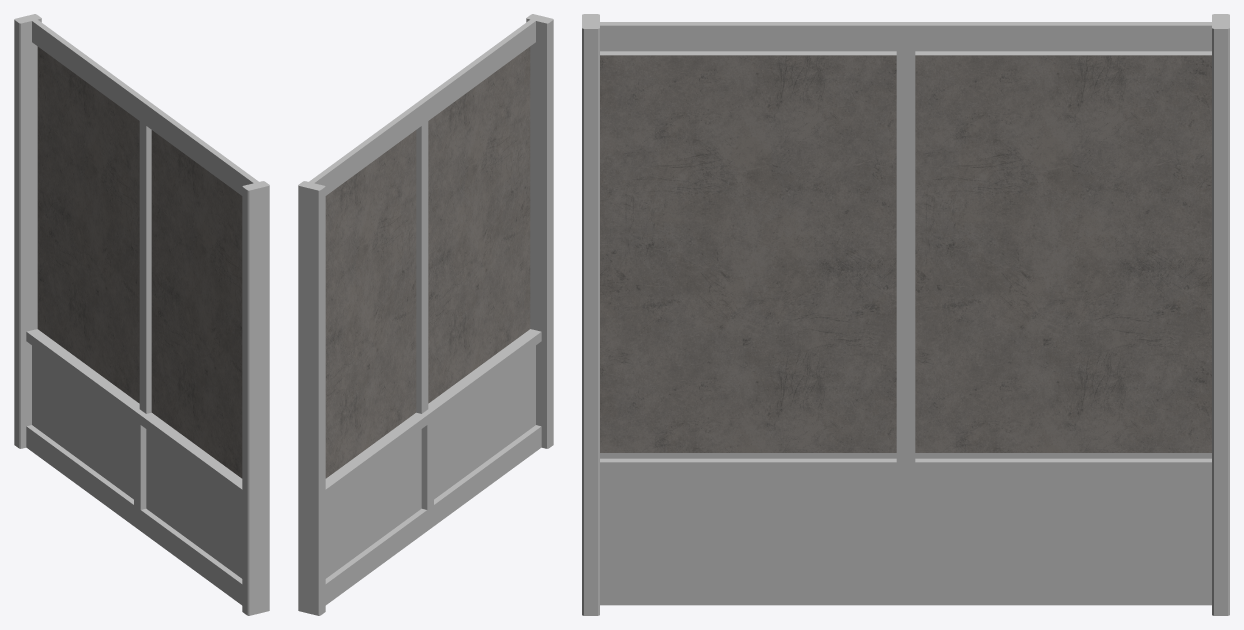
Rendered from Wall 2 2m.fbx.
3 renders of one model, left to right at view 1: azimuth 30°, elevation 25°; view 2: azimuth 150°, elevation 25°; view 3: azimuth 270°, elevation 25°, orthographic. The views are drawn at different scales.
Parts seen in each view (by area): view 1: Wall_2_2m; view 2: Wall_2_2m; view 3: Wall_2_2m.
Boxes of the visible parts, <box> form: Wall_2_2m: <box>14,14,269,615</box>; Wall_2_2m: <box>298,14,553,615</box>; Wall_2_2m: <box>582,14,1229,615</box>.
Size of the model in its own units: 10.93 by 200 by 200.
